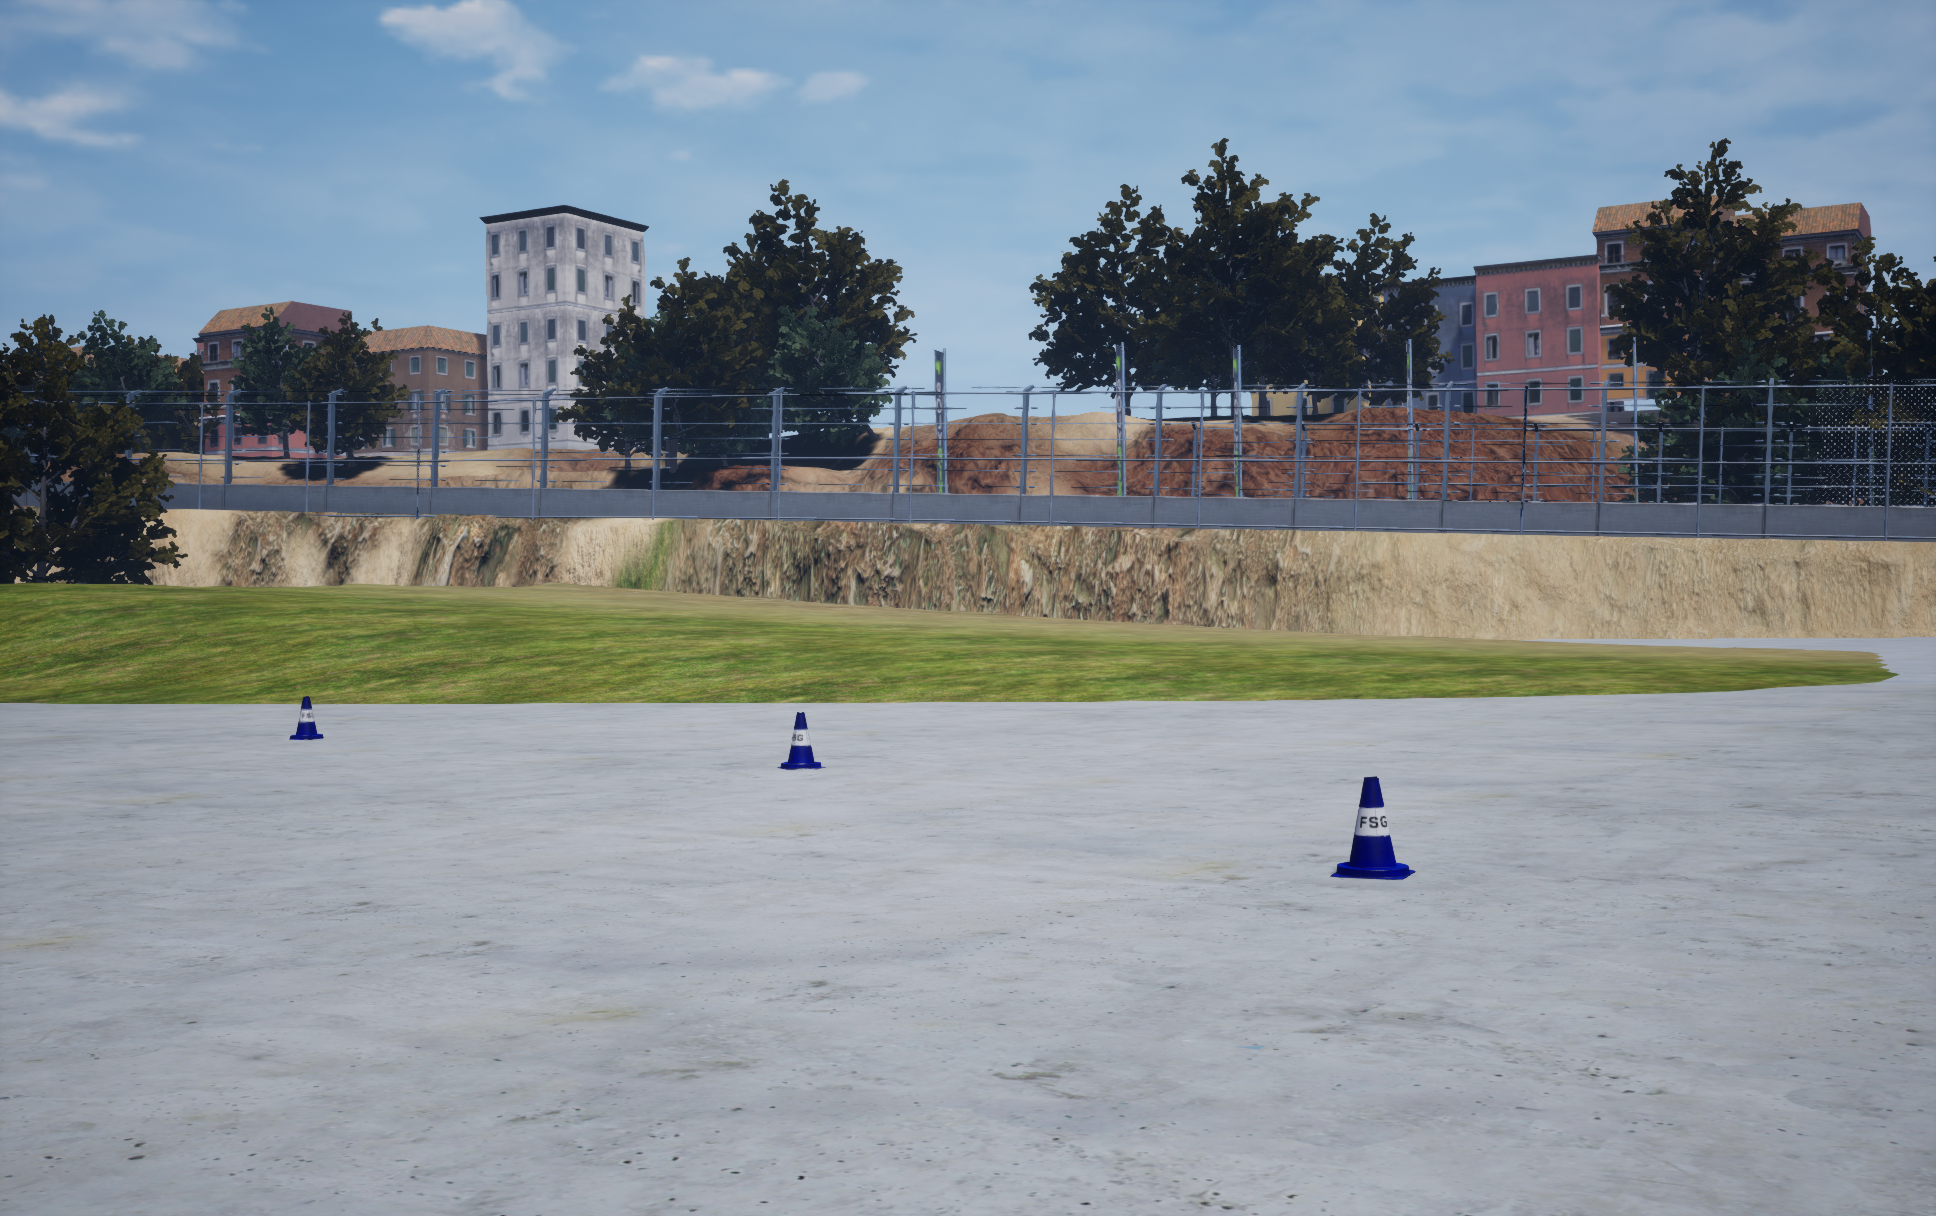yellow: (1329, 776, 1415, 878), (777, 712, 825, 769), (289, 696, 324, 740)
